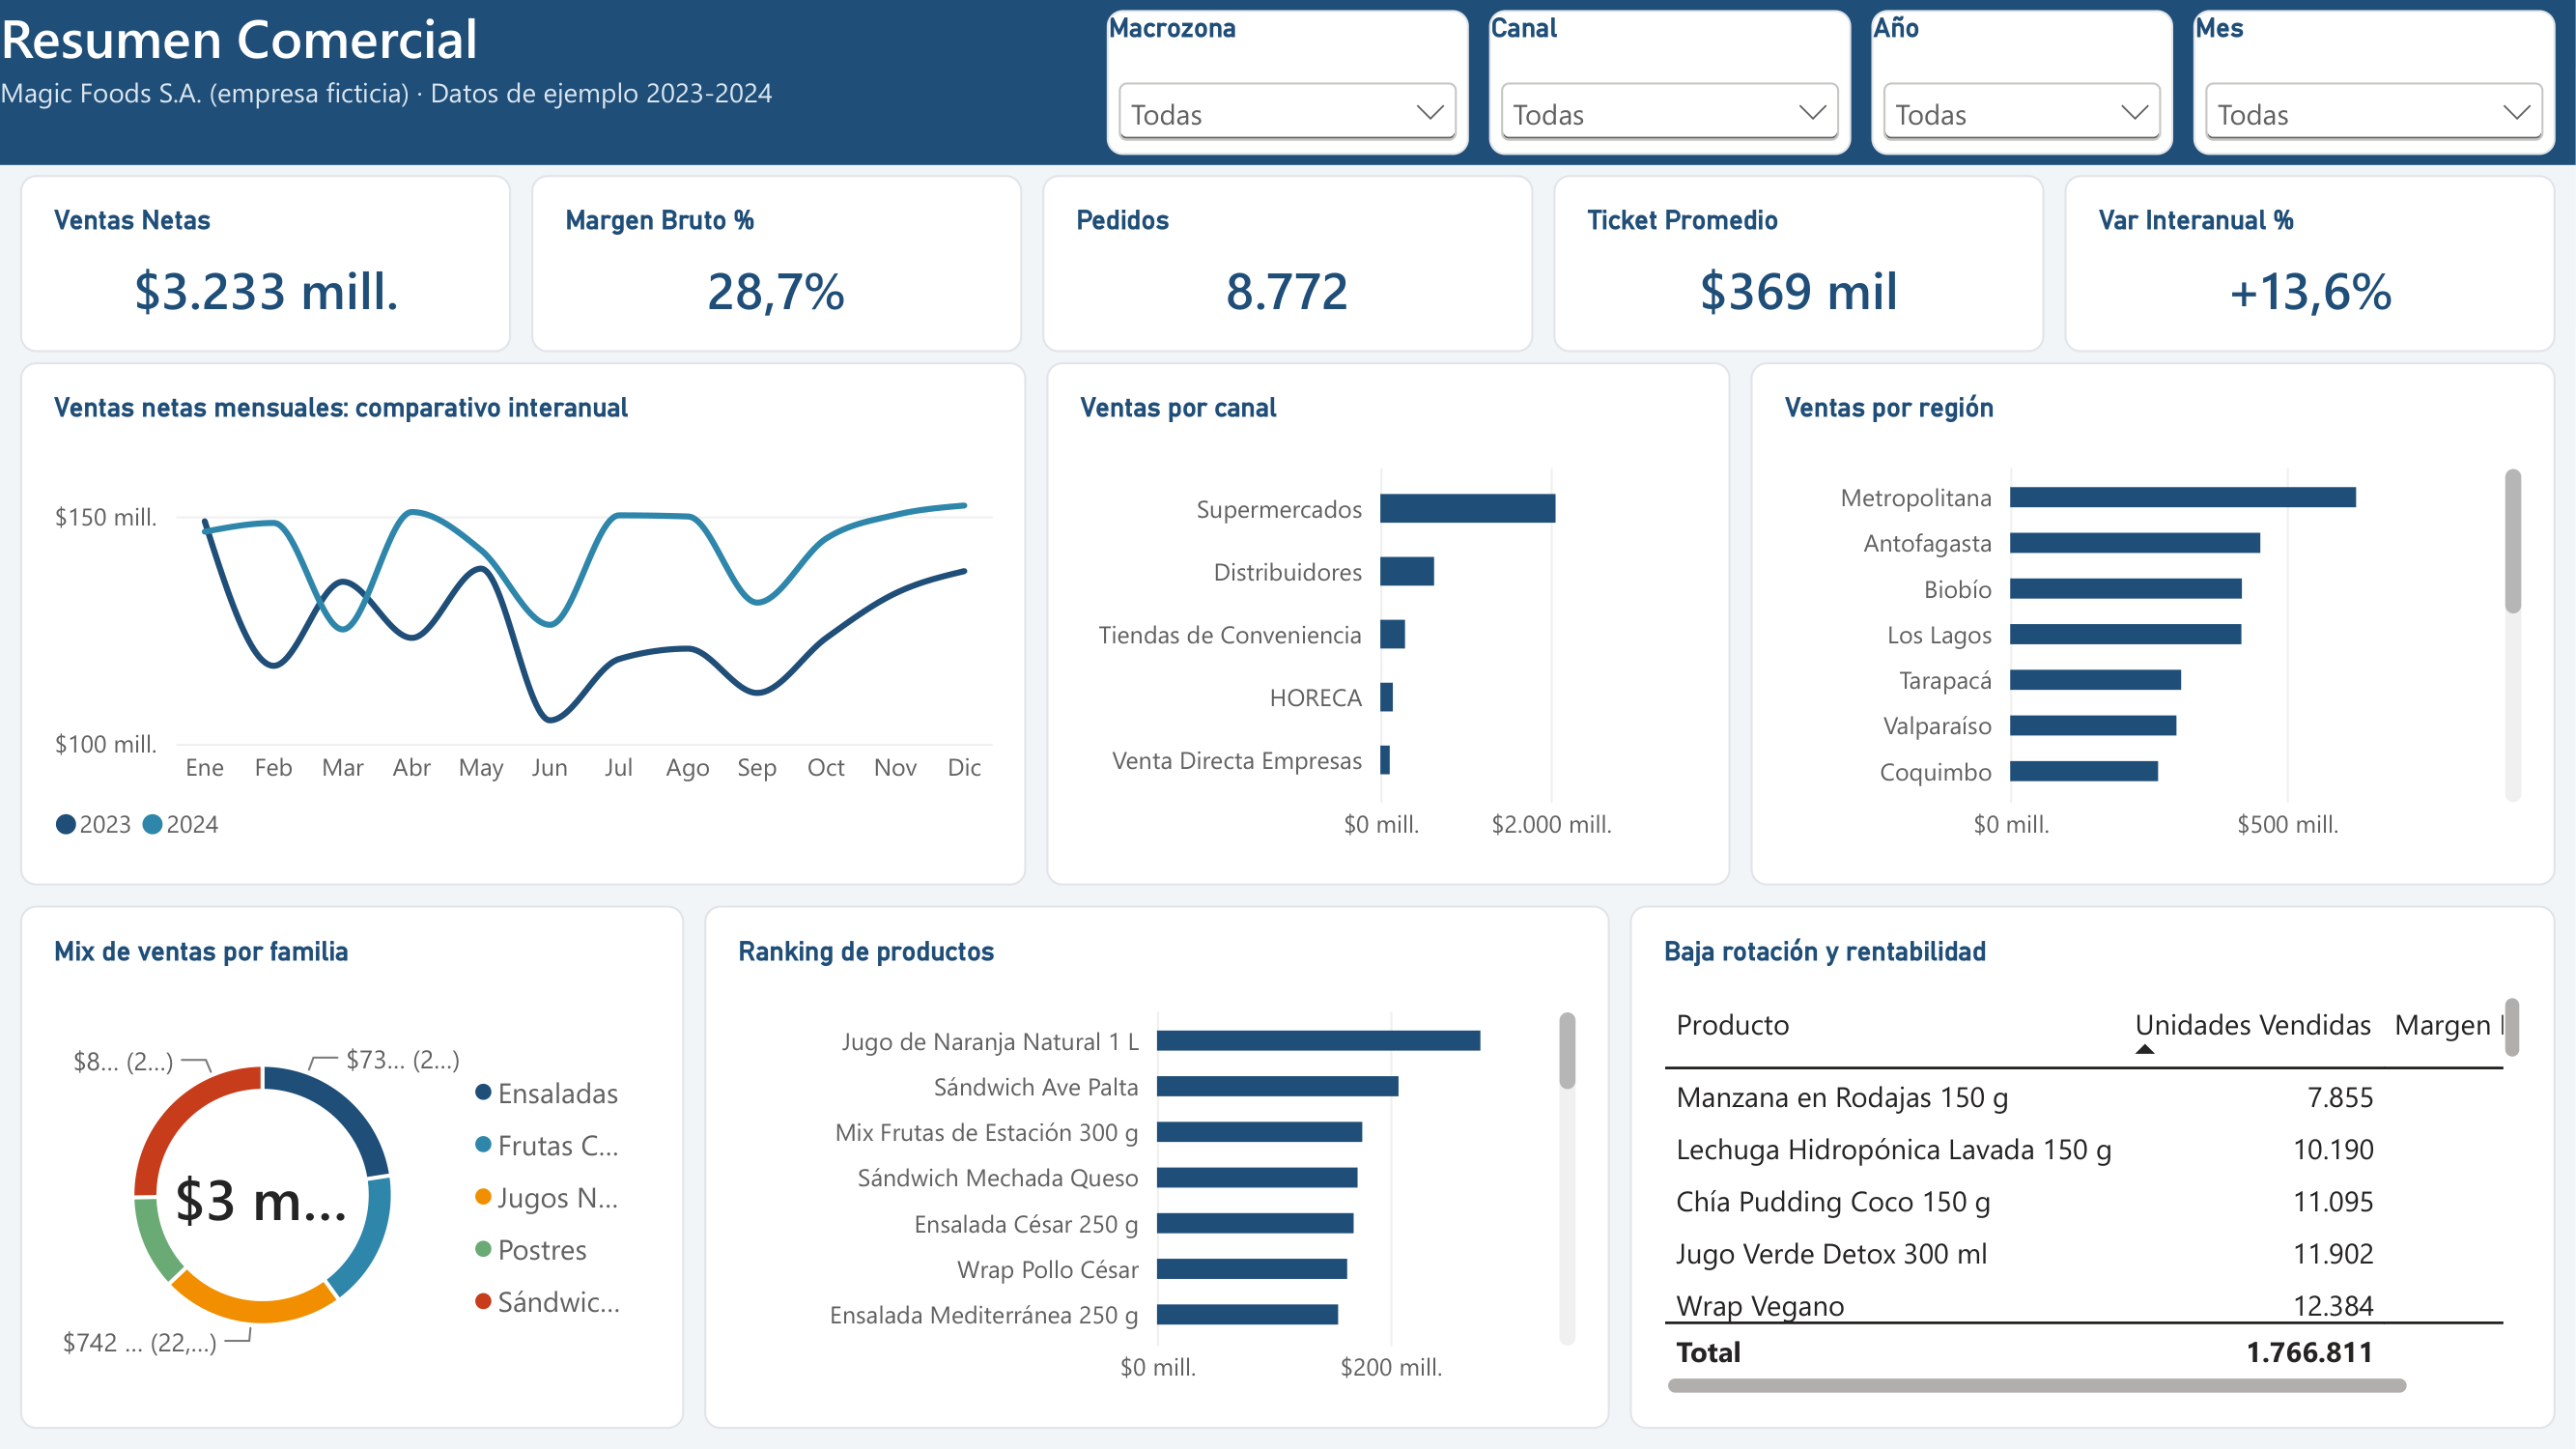

This screenshot's page, from the dashboard's own definition file:
{"tool":"tableau","page":{"name":"Resumen Comercial","canvas":[1280,720],"ordinal":0},"visuals":[{"type":"text","box":[0,0,1280,82]},{"type":"parameter","param":"[Parameters].[pMacro]","box":[550,8,180,66]},{"type":"parameter","param":"[Parameters].[pCanal]","box":[740,8,180,66]},{"type":"parameter","param":"[Parameters].[pAnio]","box":[930,8,150,66]},{"type":"parameter","param":"[Parameters].[pMes]","box":[1090,8,180,66]},{"type":"worksheet","title":"C · Ventas Netas","mark":"Text","box":[10,87,244,88]},{"type":"worksheet","title":"C · Margen Bruto","mark":"Text","box":[264,87,244,88]},{"type":"worksheet","title":"C · Pedidos","mark":"Text","box":[518,87,244,88]},{"type":"worksheet","title":"C · Ticket","mark":"Text","box":[772,87,244,88]},{"type":"worksheet","title":"C · Var Interanual","mark":"Text","box":[1026,87,244,88]},{"type":"worksheet","title":"C · Ventas Mensuales","mark":"Line","rows":["Ventas"],"cols":["FechaPedido"],"box":[10,180,380,260]},{"type":"worksheet","title":"C · Ventas por Canal","mark":"Bar","rows":["Canal"],"cols":["Ventas"],"box":[520,180,340,260]},{"type":"worksheet","title":"C · Ventas por Region","mark":"Bar","rows":["Region"],"cols":["Ventas"],"box":[870,180,400,260]},{"type":"legend","title":"C · Ventas Mensuales","param":"[federated.adcc30327981bffd4f2f27d482e5].[yr:FechaPedido:ok]","box":[390,212,112,220]},{"type":"worksheet","title":"C · Mix Familia","mark":"Pie","box":[10,450,210,260]},{"type":"worksheet","title":"C · Ranking Productos","mark":"Bar","rows":["Producto"],"cols":["Ventas"],"box":[350,450,450,260]},{"type":"worksheet","title":"C · Baja Rotacion","mark":"Text","rows":["Producto"],"box":[810,450,460,260]},{"type":"legend","title":"C · Mix Familia","param":"[federated.adcc30327981bffd4f2f27d482e5].[none:Familia:nk]","box":[220,482,112,220]}]}

Visuals, with their boxes in screenshot pixels (x1, y1, x2, y2), scaled from the page's 1280x720 canvas onto the 2576x1449 screenshot:
text: 0/0/2575/165
parameter: 1107/16/1469/149
parameter: 1489/16/1852/149
parameter: 1872/16/2173/149
parameter: 2194/16/2556/149
"C · Ventas Netas" worksheet (Text marks): 20/175/511/353
"C · Margen Bruto" worksheet (Text marks): 531/175/1022/353
"C · Pedidos" worksheet (Text marks): 1042/175/1534/353
"C · Ticket" worksheet (Text marks): 1554/175/2045/353
"C · Var Interanual" worksheet (Text marks): 2065/175/2556/353
"C · Ventas Mensuales" worksheet (Line marks): 20/362/785/886
"C · Ventas por Canal" worksheet (Bar marks): 1046/362/1731/886
"C · Ventas por Region" worksheet (Bar marks): 1751/362/2556/886
"C · Ventas Mensuales" legend: 785/427/1010/869
"C · Mix Familia" worksheet (Pie marks): 20/906/442/1429
"C · Ranking Productos" worksheet (Bar marks): 704/906/1610/1429
"C · Baja Rotacion" worksheet (Text marks): 1630/906/2556/1429
"C · Mix Familia" legend: 442/970/668/1412
